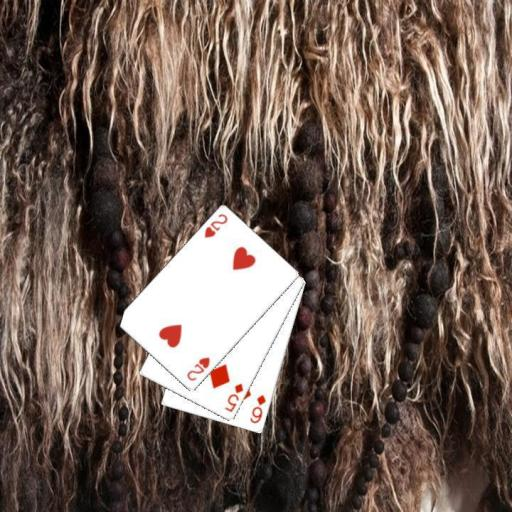card-corner: (201, 211, 229, 240), (184, 354, 211, 383), (222, 380, 244, 414), (247, 392, 267, 425)
